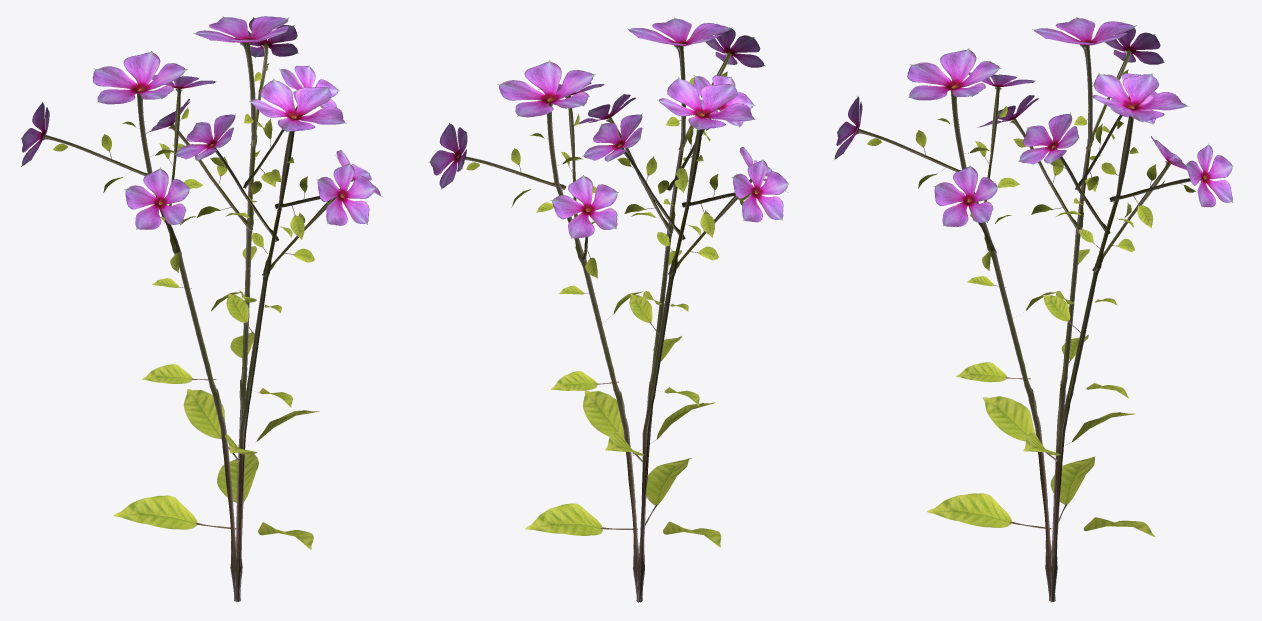
Rendered from PurpleFlower_2.fbx.
3 renders of one model, left to right at view 1: azimuth 30°, elevation 25°; view 2: azimuth 150°, elevation 25°; view 3: azimuth 270°, elevation 25°, orthographic.
Visible parts, largest first — view 1: PurpleFlower_2; view 2: PurpleFlower_2; view 3: PurpleFlower_2.
Boxes of the visible parts, bbox=[...] form: PurpleFlower_2: bbox=[21, 16, 382, 602]; PurpleFlower_2: bbox=[429, 17, 789, 602]; PurpleFlower_2: bbox=[834, 17, 1233, 602].
Bounding box in the file's own units: 0.2317 × 0.3676 × 0.2558.
